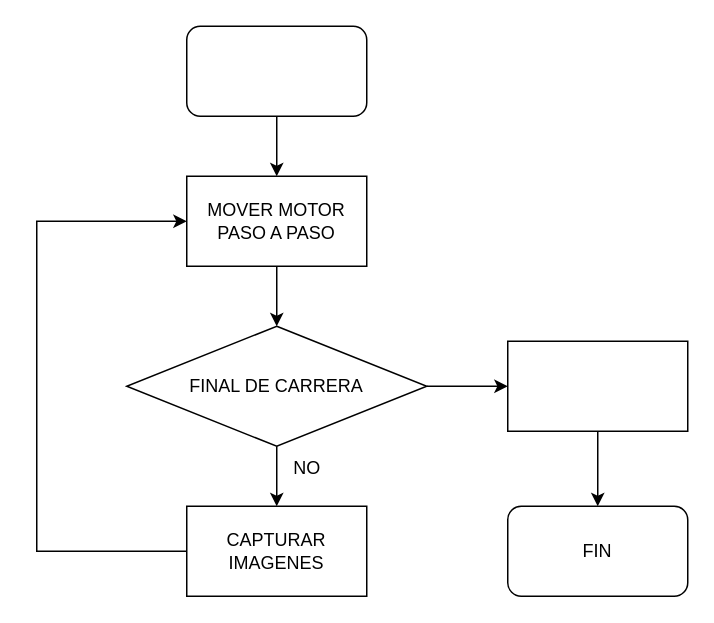
This 714x623 diagram has some shape labels left out. The shapes that lost their labels are listed below. From the top down, each one's box as (x1, y1, x2, y2) in pixels, then its label:
(185, 25, 367, 116): INICIO
(506, 340, 688, 431): REALIZAR INFERENCIA
